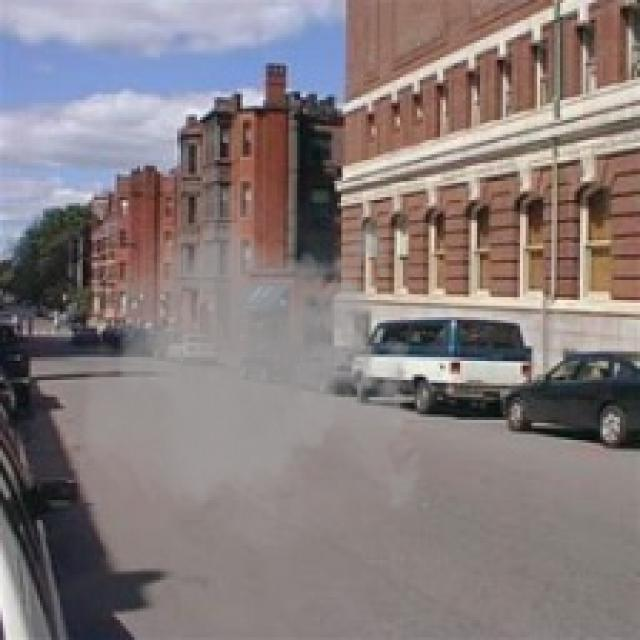smoke: (77, 160, 432, 569)
